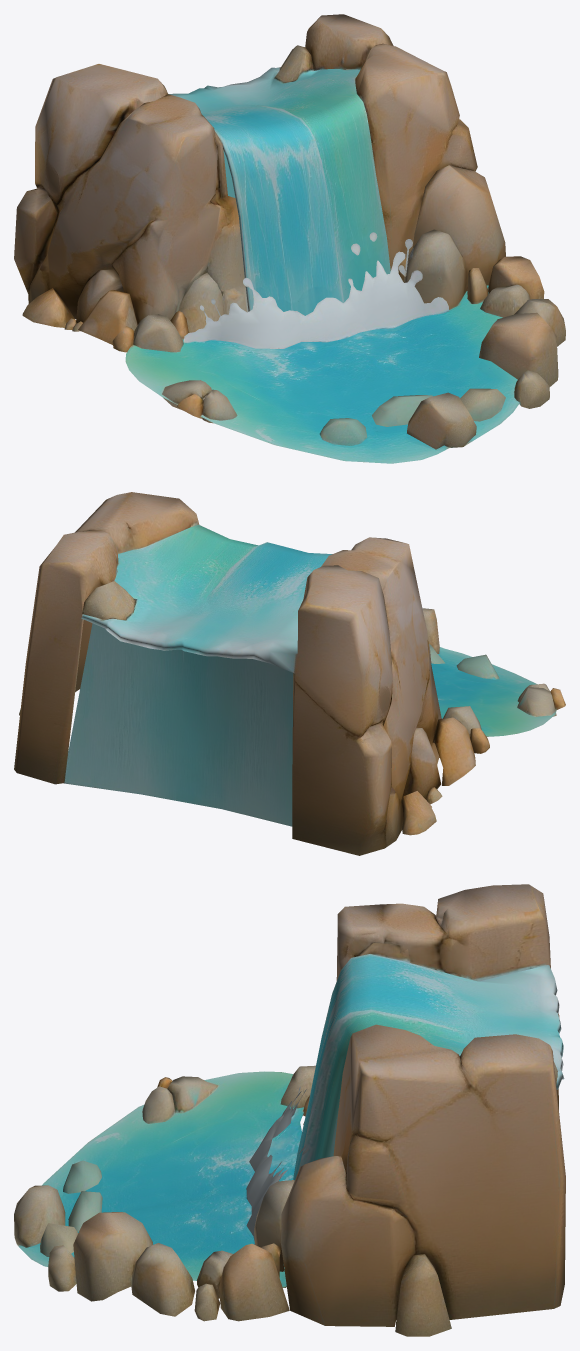
Rendered from waterfall_rock.glb.
3 views of the same model, one above another, from view 1: azimuth 30°, elevation 25°; view 2: azimuth 150°, elevation 25°; view 3: azimuth 270°, elevation 25° (orthographic). The views are drawn at different scales.
Visible parts, largest first — view 1: tripo_node_6d812f6f-997f-4ae0-9ae7-eea71309ed3c; view 2: tripo_node_6d812f6f-997f-4ae0-9ae7-eea71309ed3c; view 3: tripo_node_6d812f6f-997f-4ae0-9ae7-eea71309ed3c.
Boxes of the visible parts, x1,y1,x2,y2 form: tripo_node_6d812f6f-997f-4ae0-9ae7-eea71309ed3c: (14,14,565,463); tripo_node_6d812f6f-997f-4ae0-9ae7-eea71309ed3c: (14,492,565,855); tripo_node_6d812f6f-997f-4ae0-9ae7-eea71309ed3c: (14,884,565,1336).
Size of the model in its own units: 0.9858 by 0.5425 by 0.9995.
Materials: 1 (1 with a texture image).
